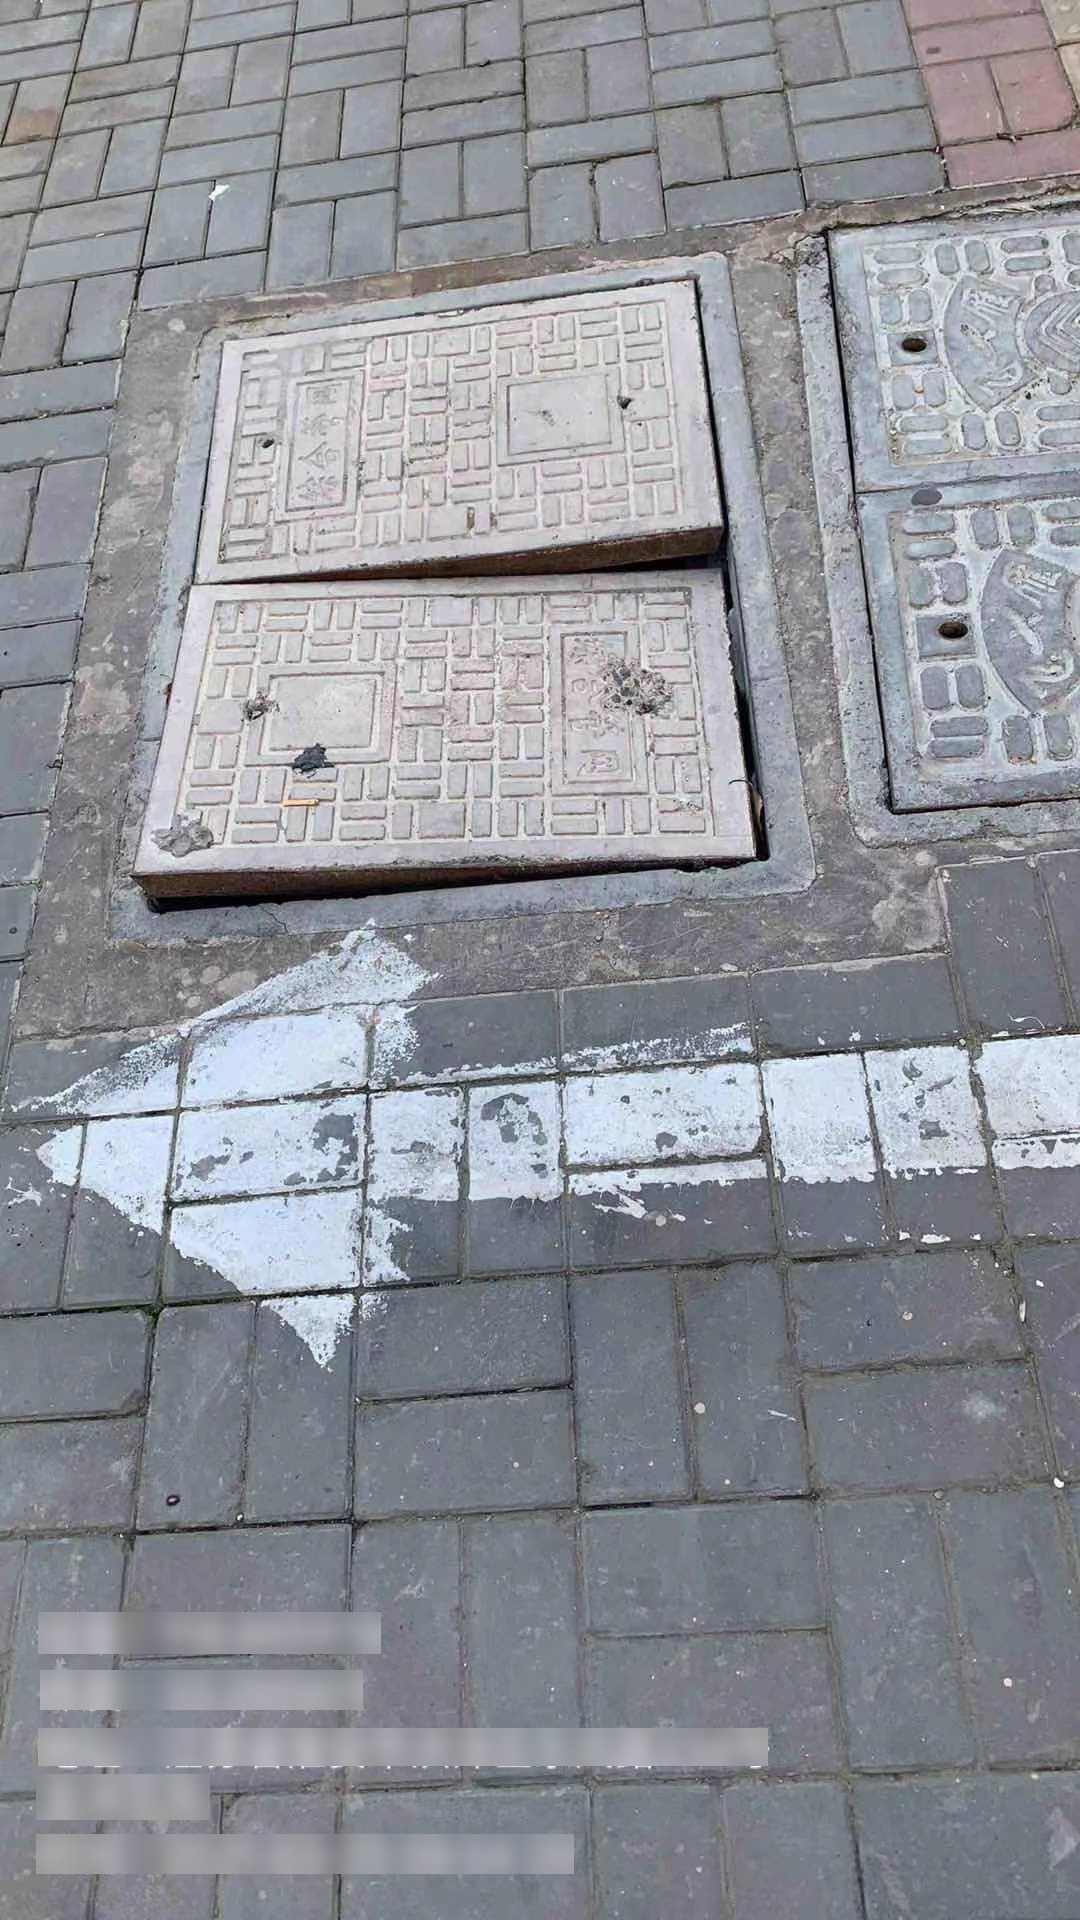good: (786, 186, 1068, 852)
uncovered: (113, 248, 818, 928)
